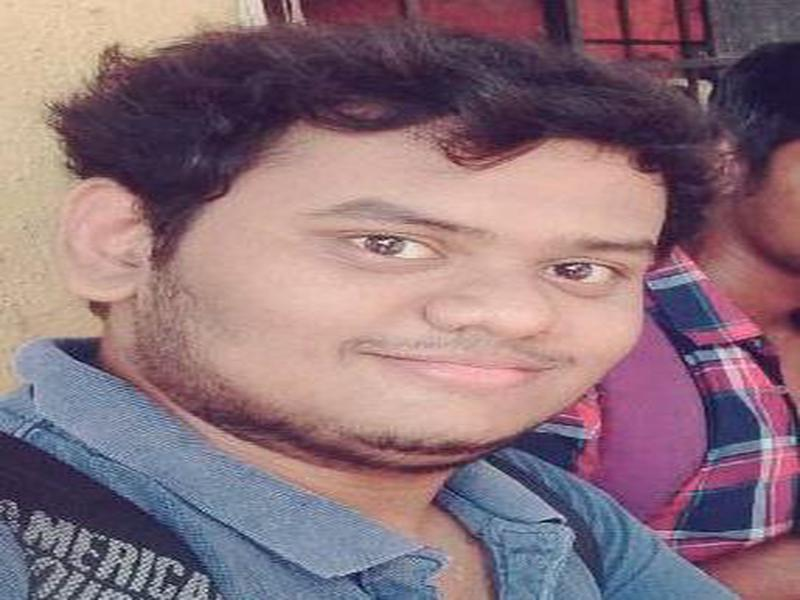without_mask: (163, 123, 665, 461)
